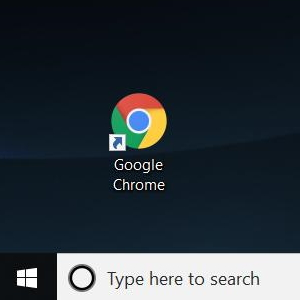chrome: (108, 93, 167, 151)
